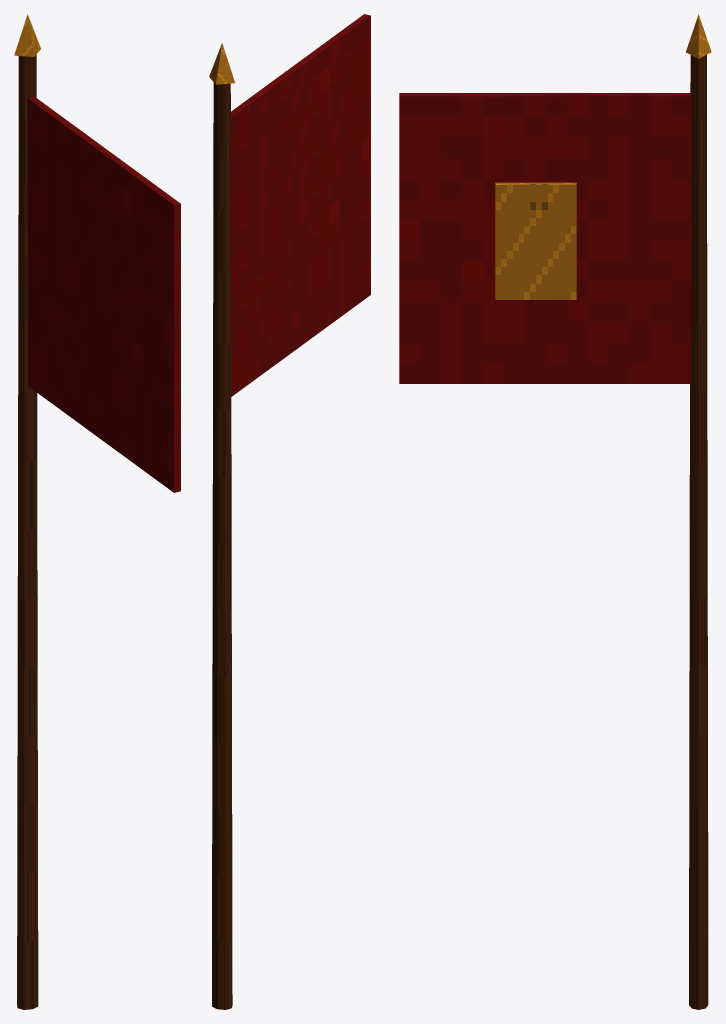
The model's file is estandarte_tamga.glb.
3 renders of one model, left to right at view 1: azimuth 30°, elevation 25°; view 2: azimuth 150°, elevation 25°; view 3: azimuth 270°, elevation 25°, orthographic. The views are drawn at different scales.
Parts seen in each view (by area): view 1: bandera, asta, remate; view 2: bandera, asta, remate; view 3: bandera, asta, tamga.
Boxes of the visible parts, x1,y1,x2,y2 form: bandera: [27, 96, 180, 492]; asta: [17, 47, 38, 1009]; remate: [14, 14, 40, 56]; bandera: [231, 14, 370, 396]; asta: [212, 75, 232, 1009]; remate: [209, 43, 234, 84]; bandera: [399, 93, 691, 383]; asta: [689, 49, 708, 1009]; tamga: [495, 182, 576, 299].
Bounding box in the file's own units: 0.1 × 3.5 × 1.
Materials: 1 (1 with a texture image).
